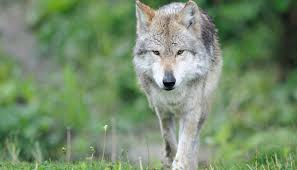Lobo: (127, 3, 222, 167)
